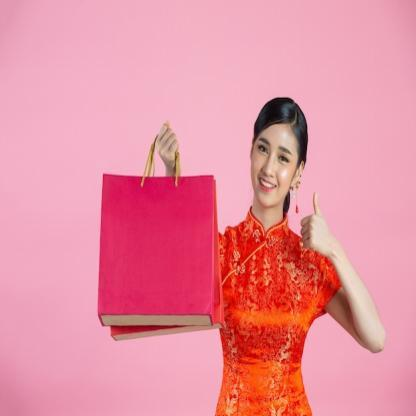thumb_up: (297, 188, 329, 256)
